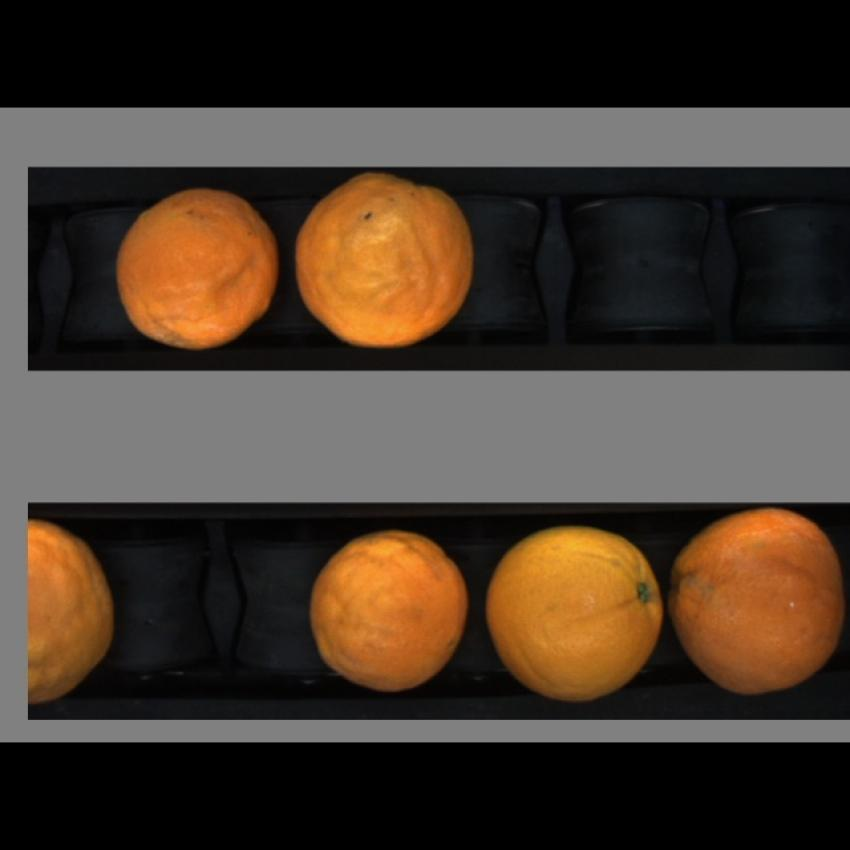Buen estado: (483, 528, 668, 706)
Mal estado: (292, 169, 481, 349), (674, 512, 849, 694), (295, 526, 472, 696), (110, 186, 284, 355), (30, 518, 118, 707)
